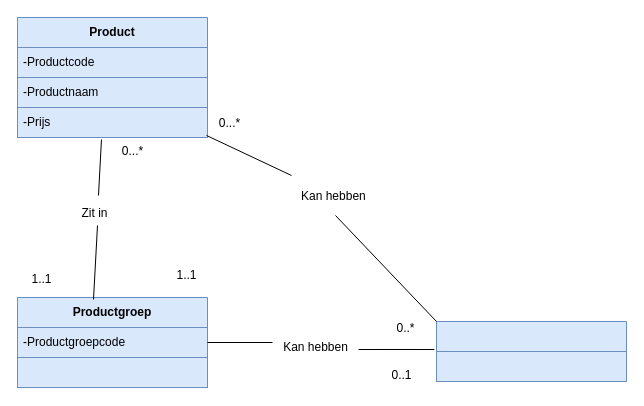
Some shapes in this 644 by 406 pixel diagram are drawn without their labels. Here are the shapes that lost their labels. From the top down, the box of each, then its label:
(436, 320, 626, 382): Afbeelding
(436, 350, 626, 382): -Link naar plaatje
(16, 356, 208, 388): -Productgroepnaam
